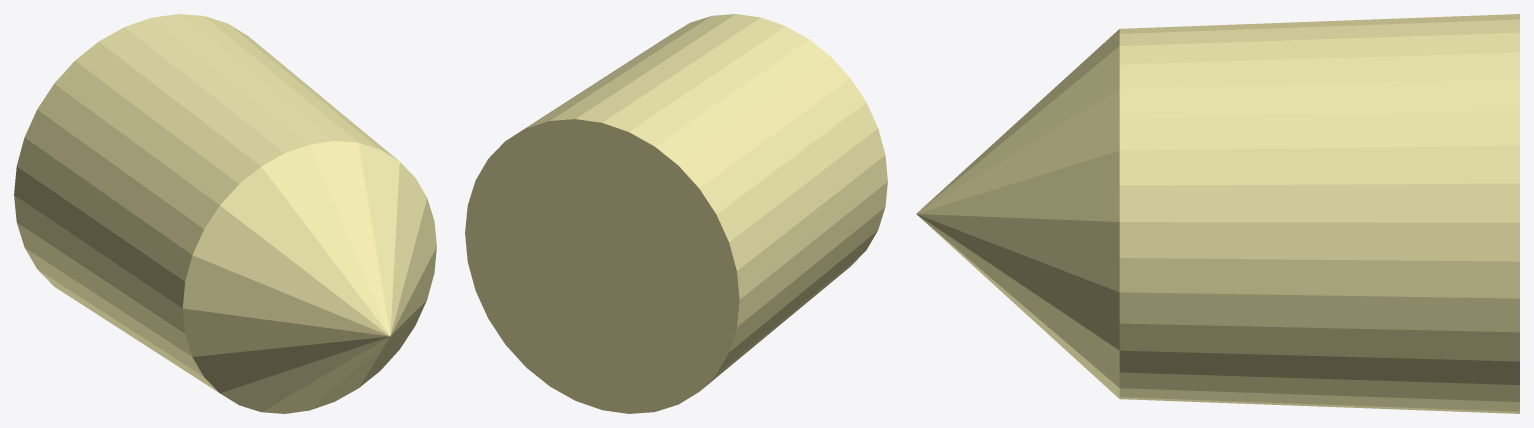
The model's file is bulleto.fbx.
The picture shows the model from 3 angles, left to right: view 1: azimuth 30°, elevation 25°; view 2: azimuth 150°, elevation 25°; view 3: azimuth 270°, elevation 25°; orthographic projection. The views are drawn at different scales.
Visible parts, largest first — view 1: Cylinder; view 2: Cylinder; view 3: Cylinder.
Boxes of the visible parts, <box> form: Cylinder: <box>14,14,436,413</box>; Cylinder: <box>465,14,887,413</box>; Cylinder: <box>916,14,1519,413</box>.
Bounding box in the file's own units: 20 × 20 × 30.17.
